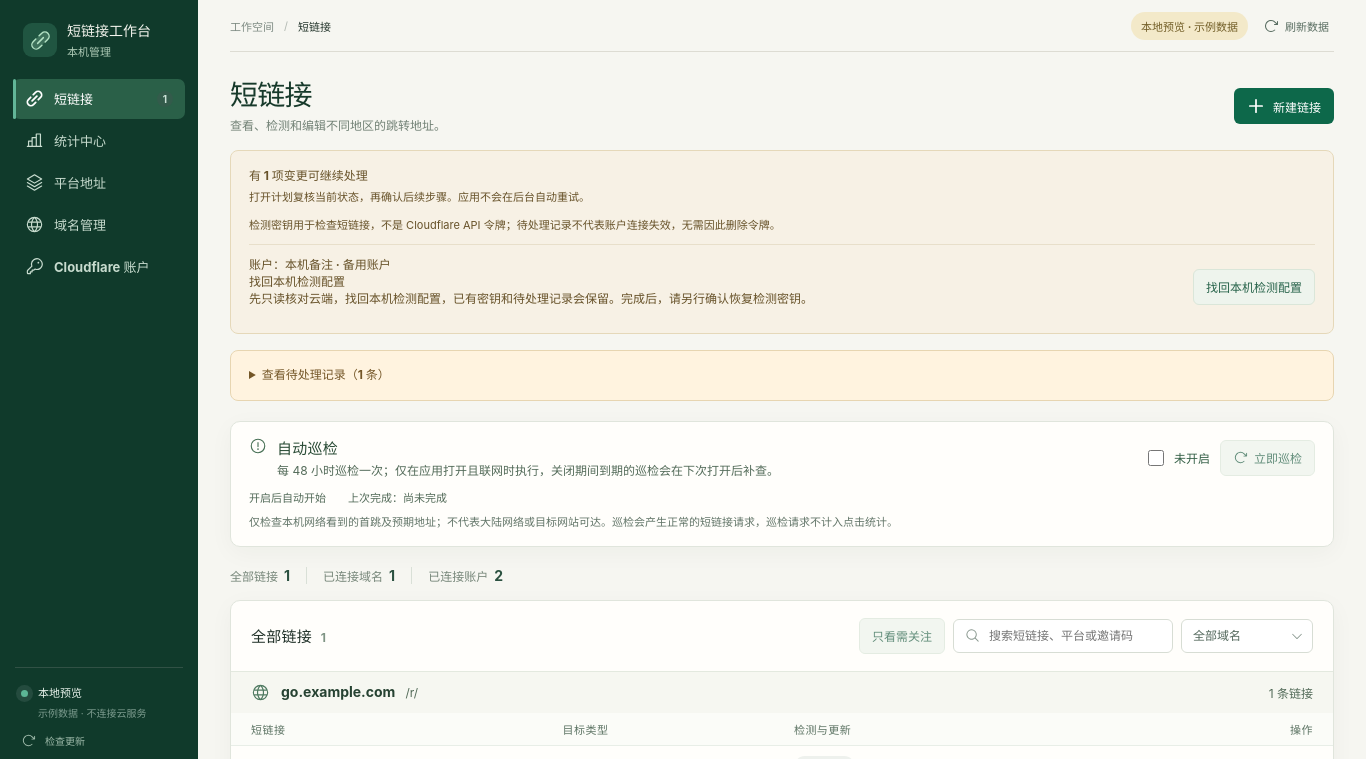
Test: coalesces repeated preparation clicks and releases the guard after cancellation
The width and height of the screenshot is (1366, 759).
Click the button "找回本机检测配置" at (1254, 287), box [1193,269,1315,305]
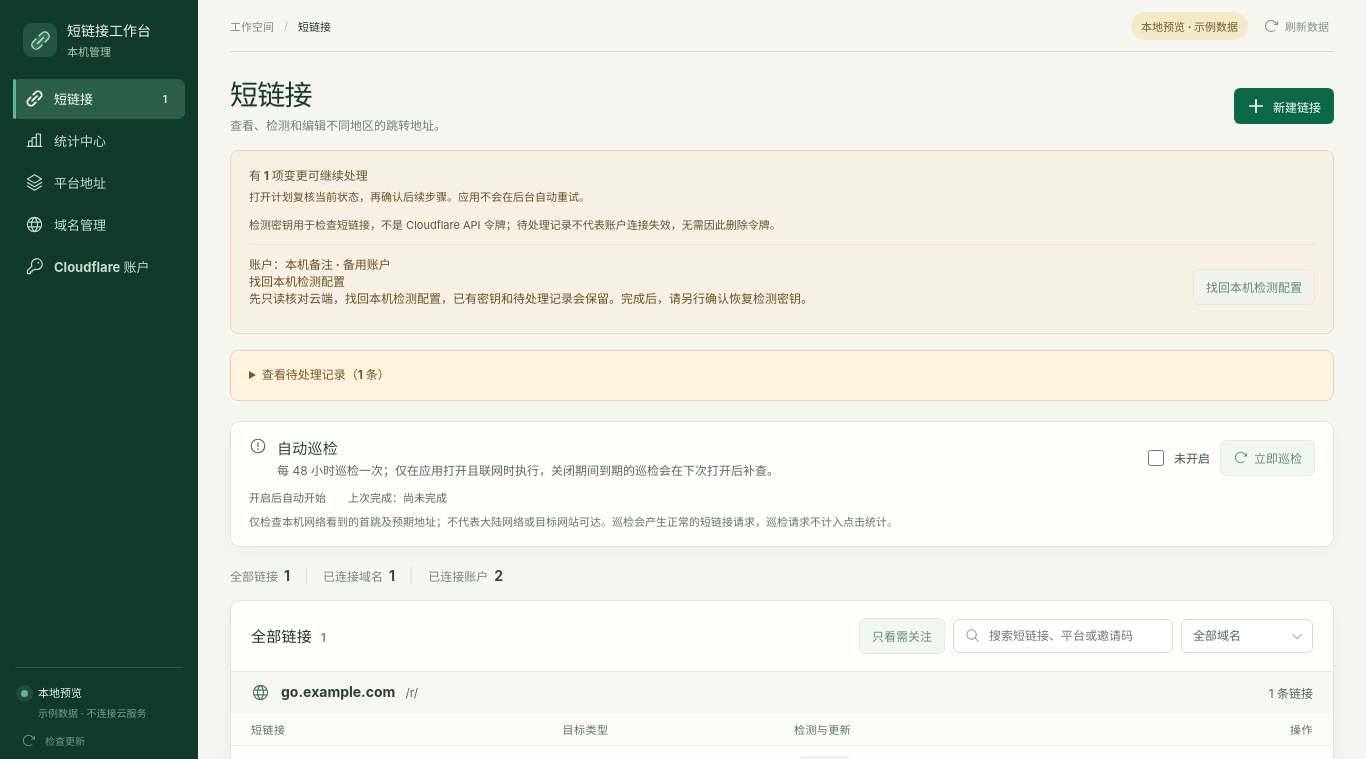
Click the button "找回本机检测配置" at (1254, 287), box [1193,269,1315,305]
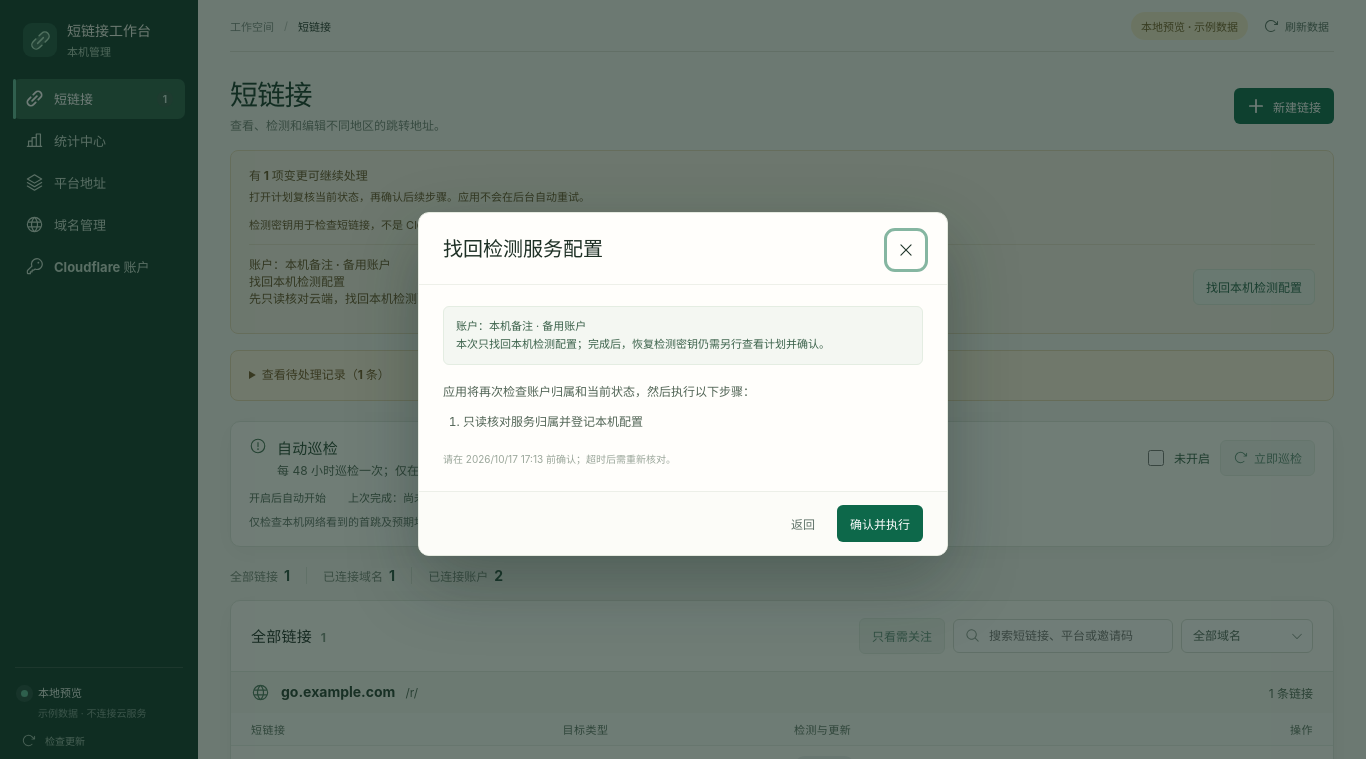
Click the button "返回" at (803, 524), box [778,505,828,542]
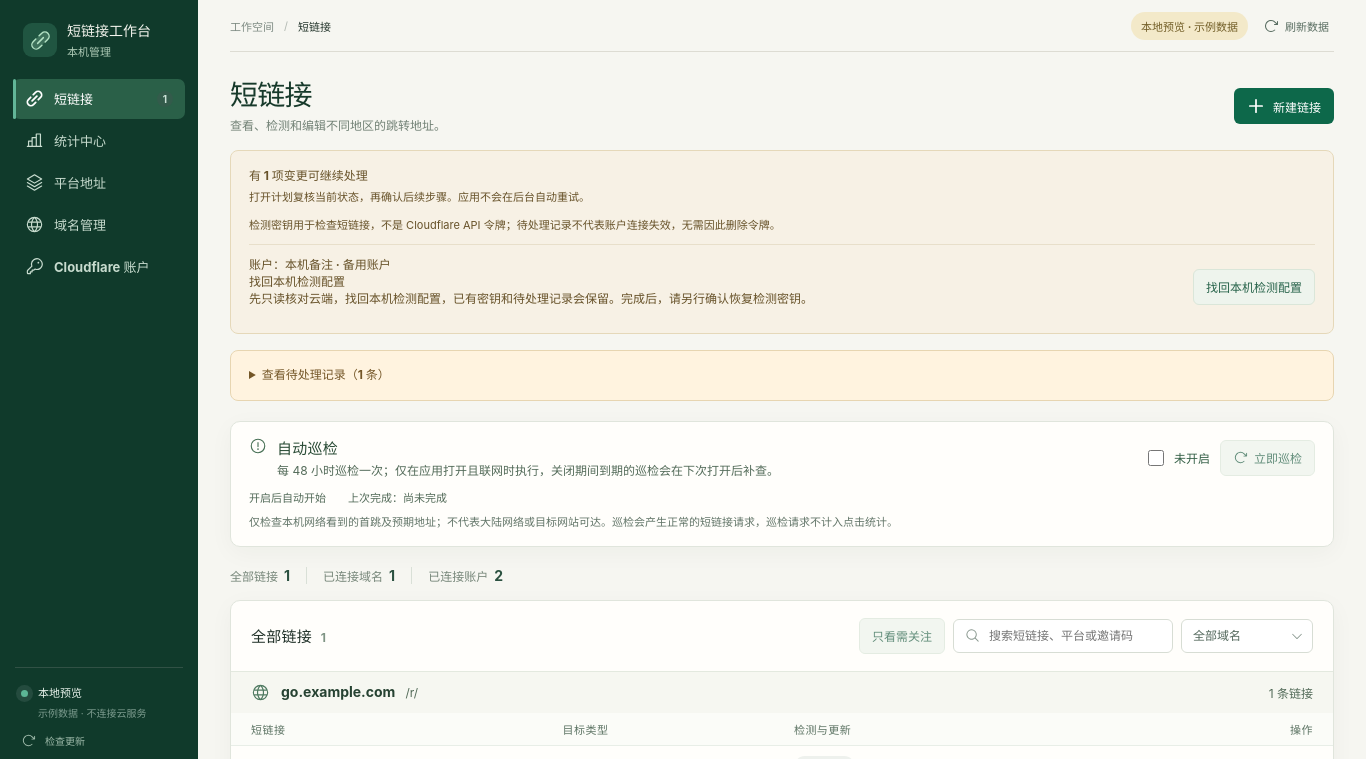
Click the button "找回本机检测配置" at (1254, 287), box [1193,269,1315,305]
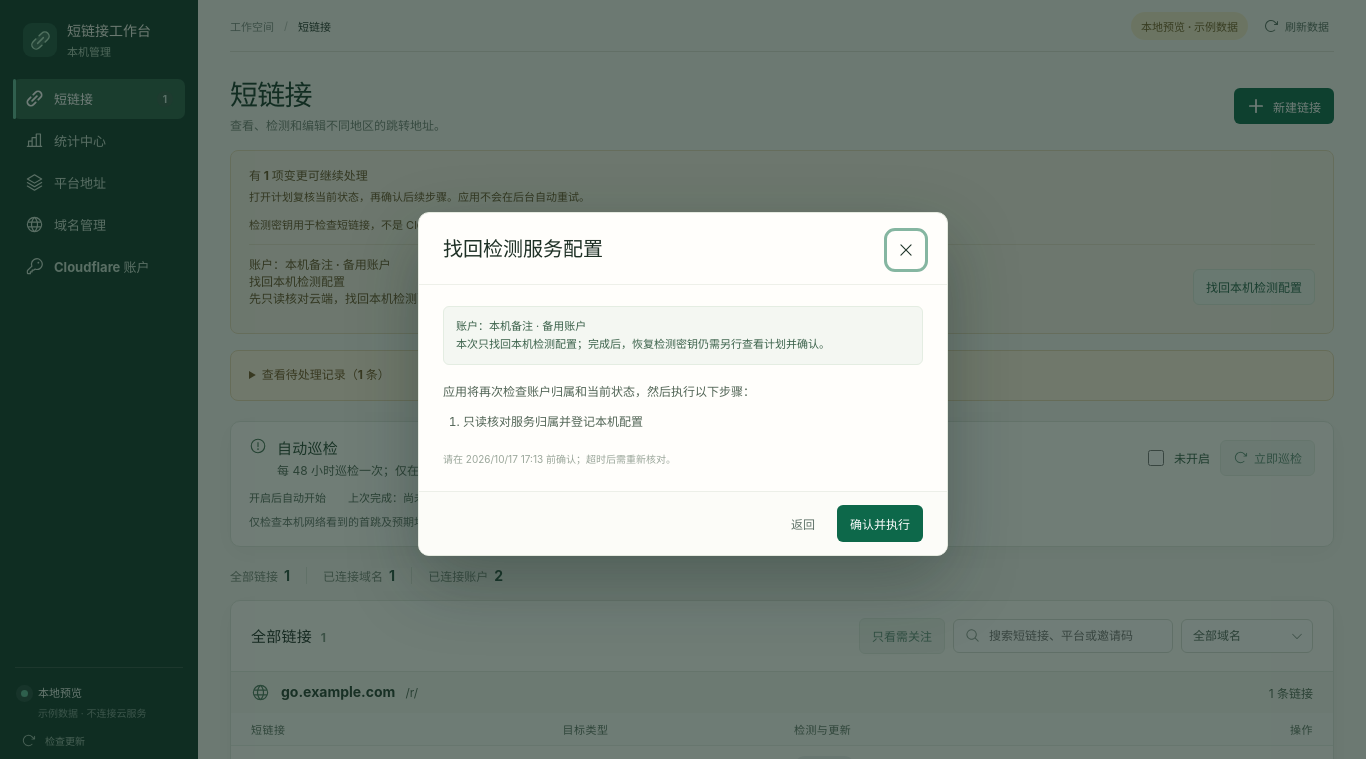
Check: the dialog "找回检测服务配置" is shown, box [418,212,948,556]
